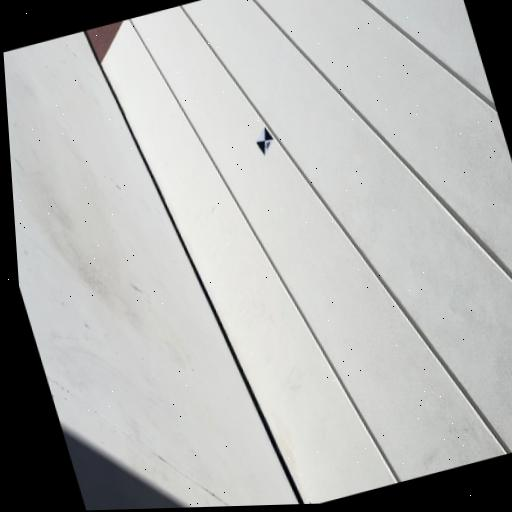target4: (256, 126, 275, 156)
